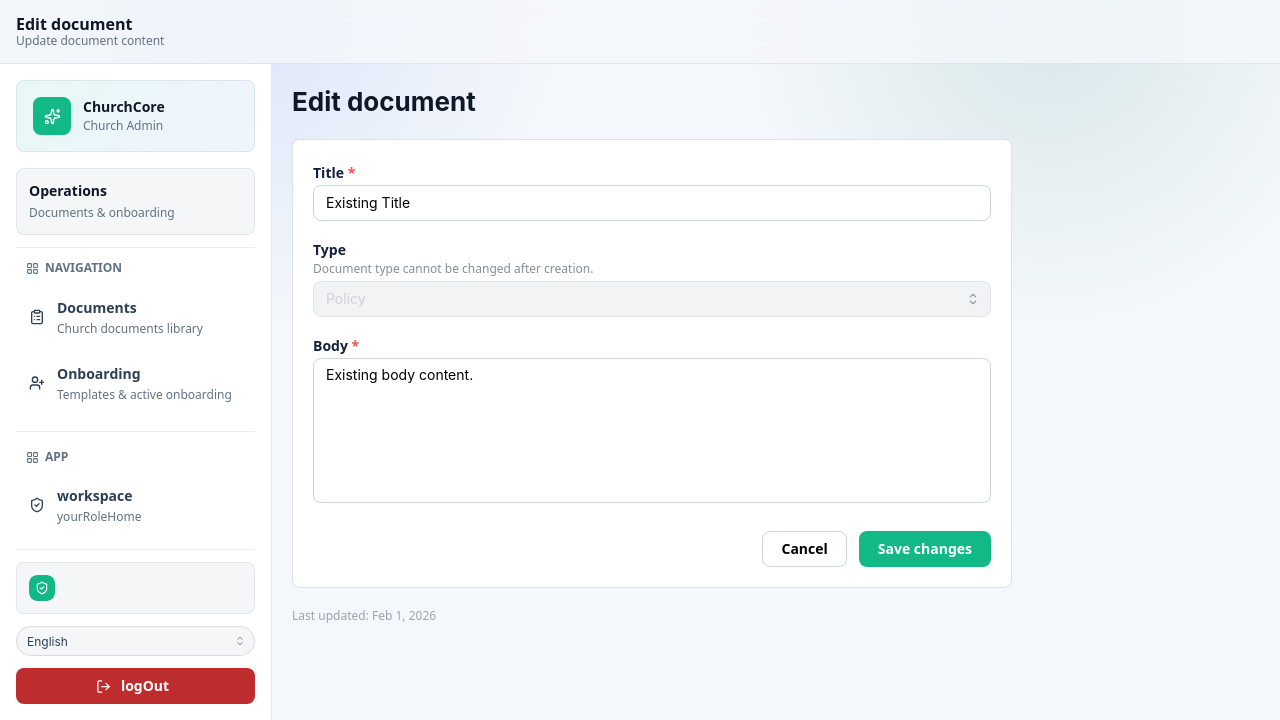
Test: OperationsDocumentFormClient — edit mode › shows inline validation errors in edit mode too (AC4)
Clear title
Clear the field labelled "Title *" at [652, 203], box [313,185,991,221]
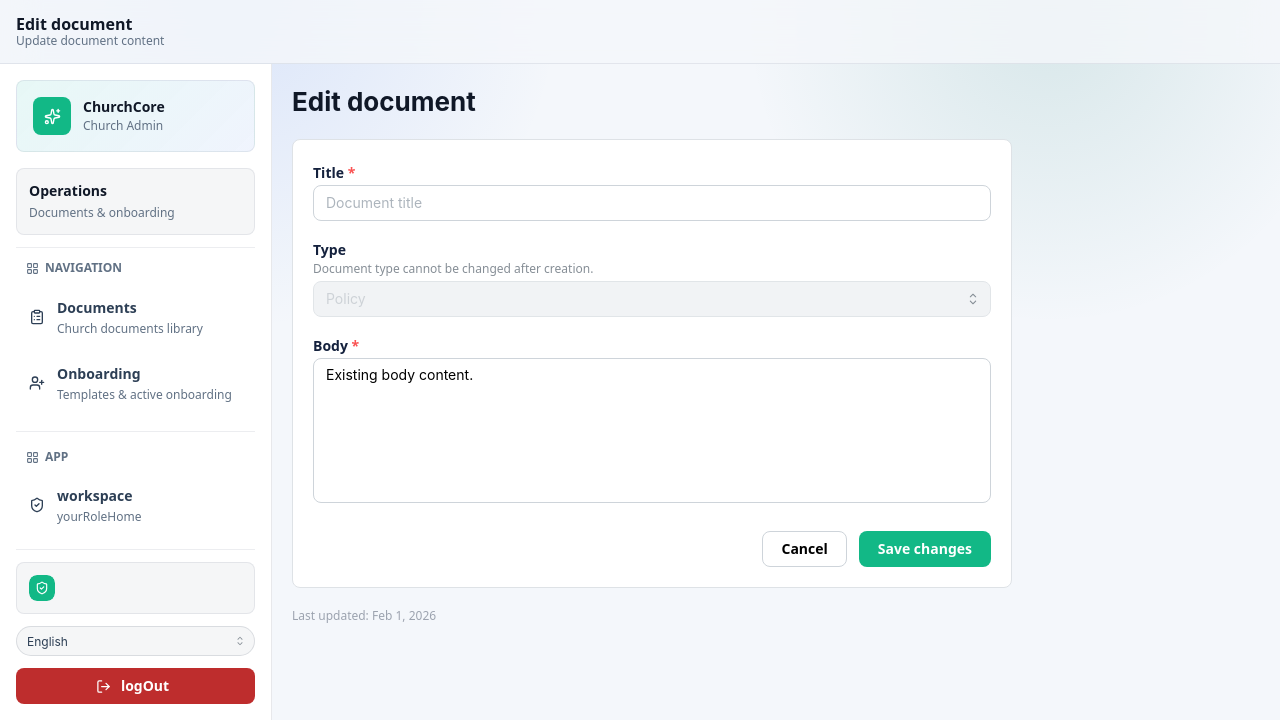
Clear body
Clear the text box labelled "Body *" at [652, 430], box [313,358,991,503]
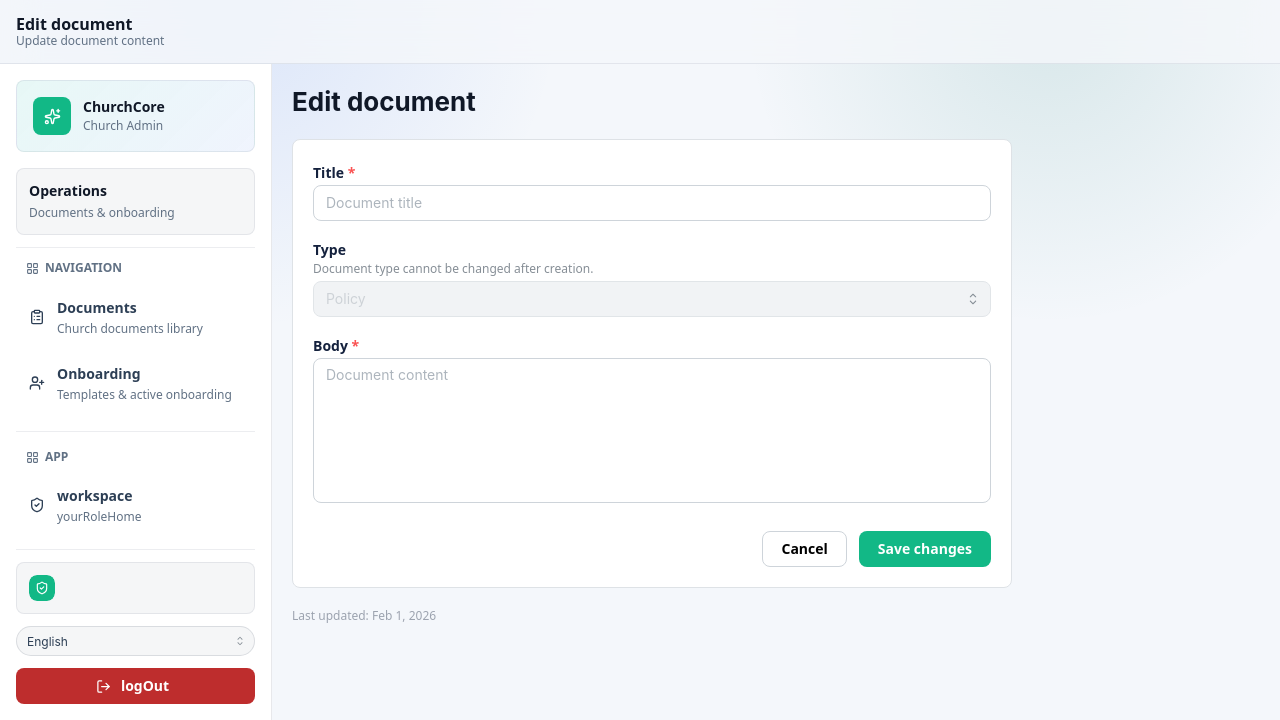
Submit the form "Title", box [313,160,991,567]
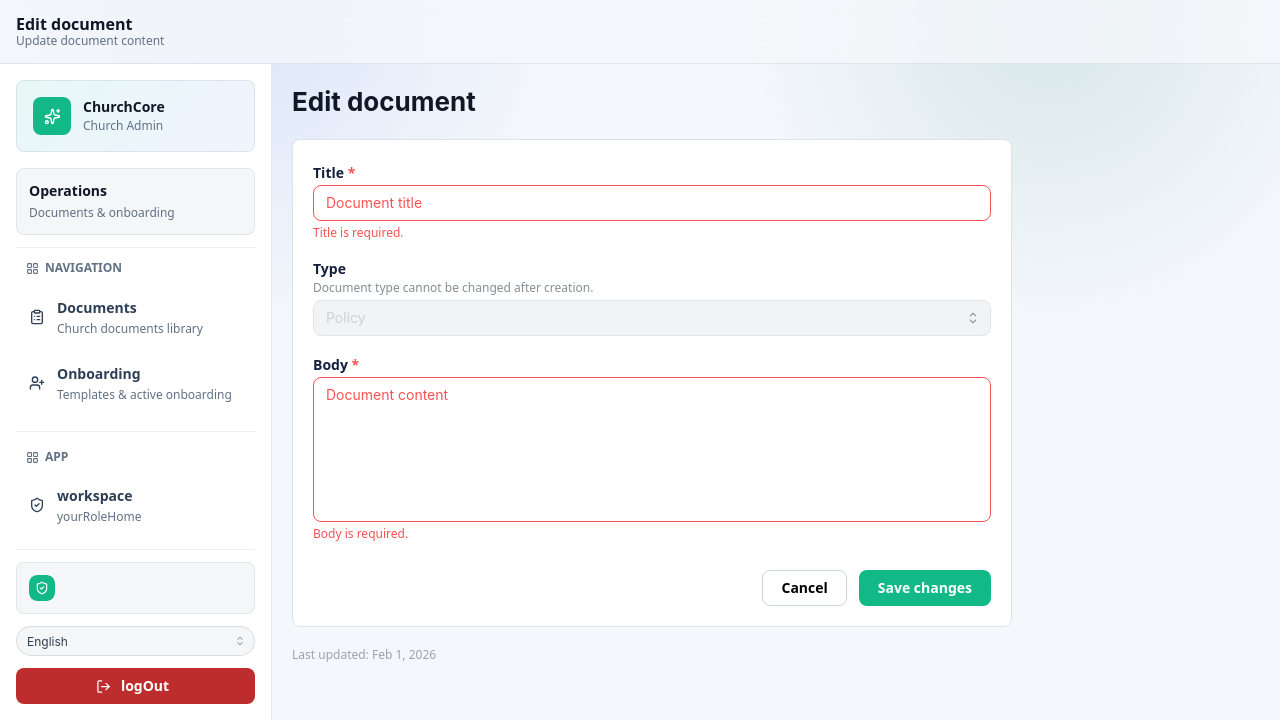
Now the text "Title is required." is shown, box [313,224,404,241]
Now the text "Body is required." is shown, box [313,525,408,542]
